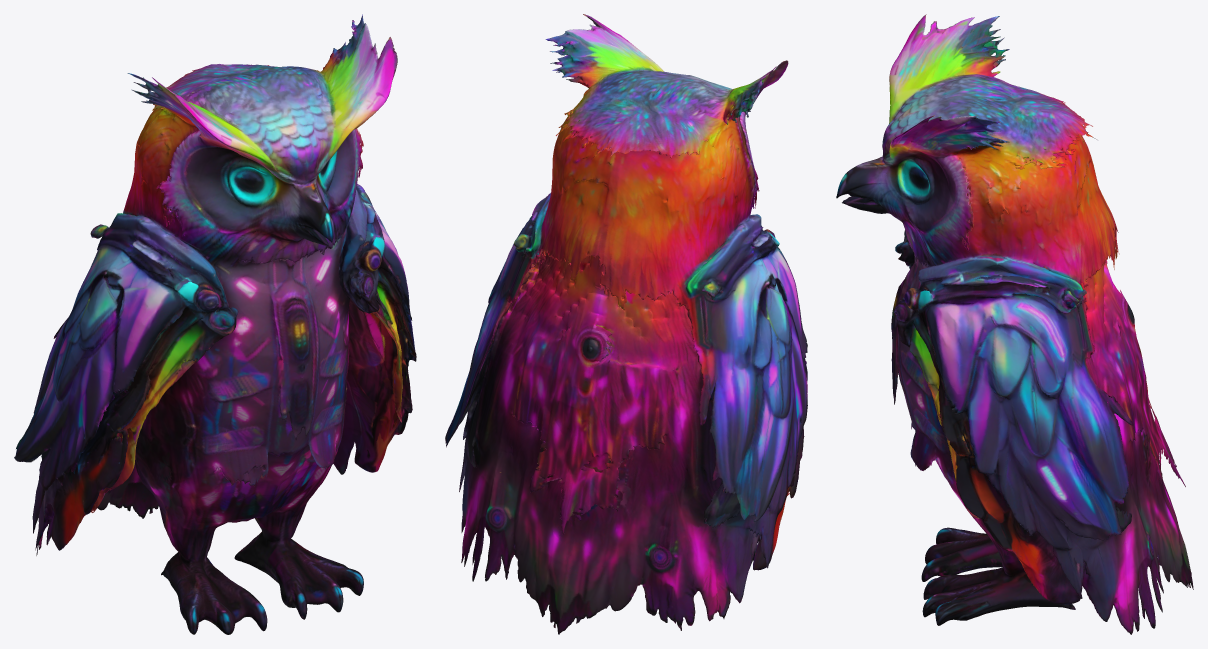
Rendered from buho.glb.
3 renders of one model, left to right at view 1: azimuth 30°, elevation 25°; view 2: azimuth 150°, elevation 25°; view 3: azimuth 270°, elevation 25°, orthographic. The views are drawn at different scales.
Bounding box in the file's own units: 1.3 × 1.99 × 1.22.
1 material, 1 textured.
